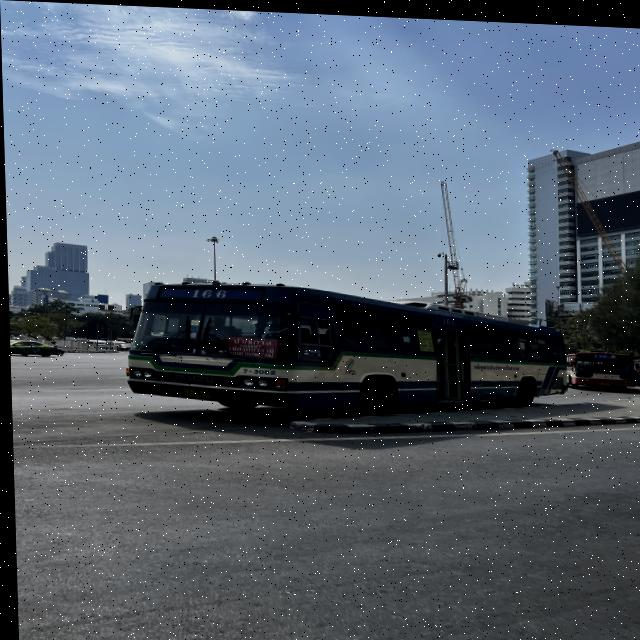BMTA-bus: (122, 277, 567, 430), (565, 344, 640, 388)
Bus-Line-Number: (181, 283, 230, 300), (593, 347, 613, 354)
Destination-Sign-Extra-Bus: (223, 334, 277, 358)
Destination-Sign-Normal: (614, 363, 626, 368)
